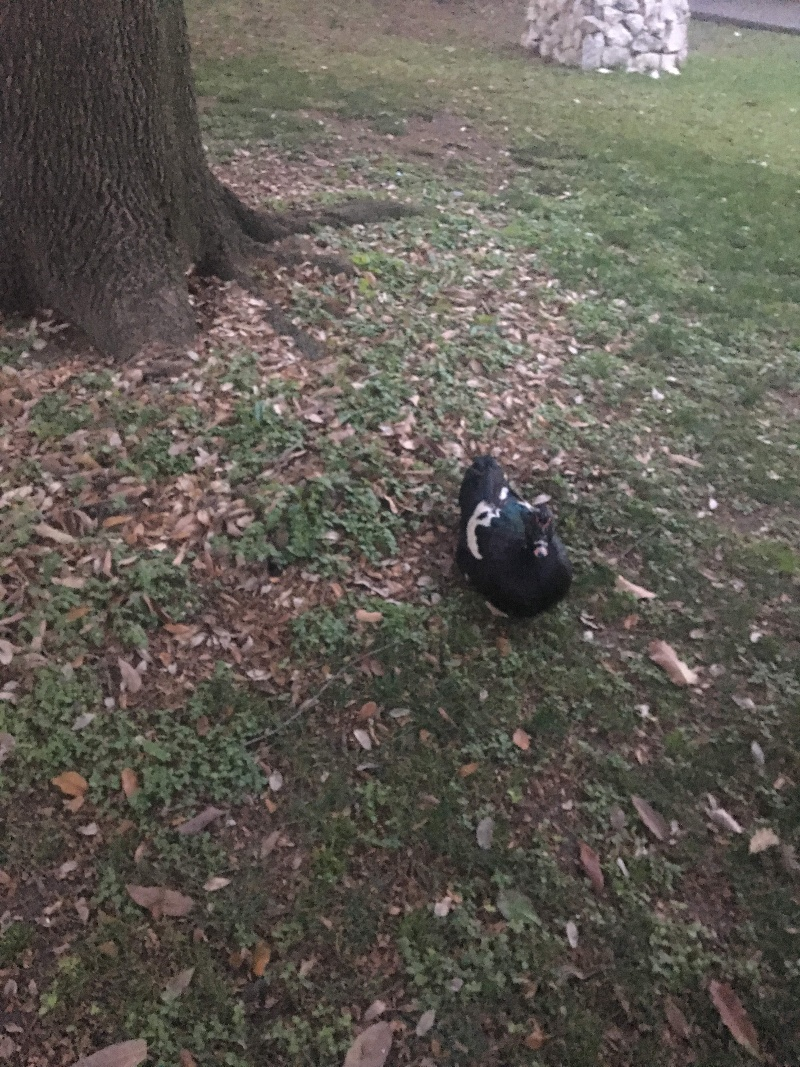pato: (456, 453, 574, 620)
